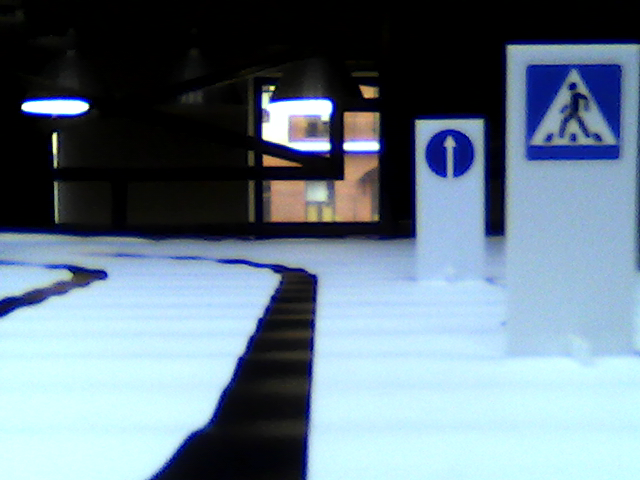forw: (424, 128, 475, 178)
pesh: (525, 62, 623, 162)
